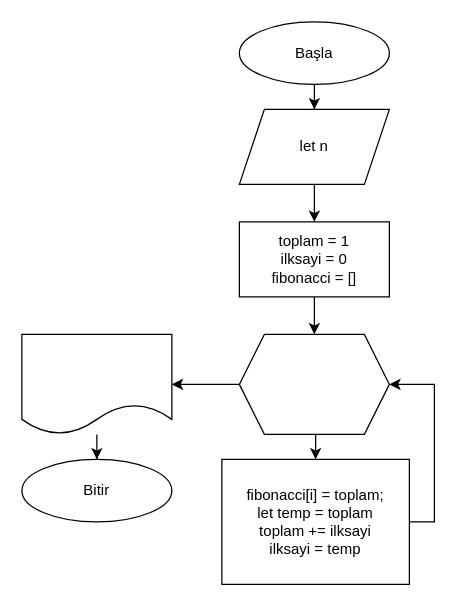
The diagram is 466 pixels wide and 606 high, and some of its shapes have lost their labels. The shapes that lost their labels are listed below. From the top down, each one's centre as x and y in pixels, then its label:
At point 96,383: "fibonacci".
At point 313,383: "i = 0; i < n; i++;".
